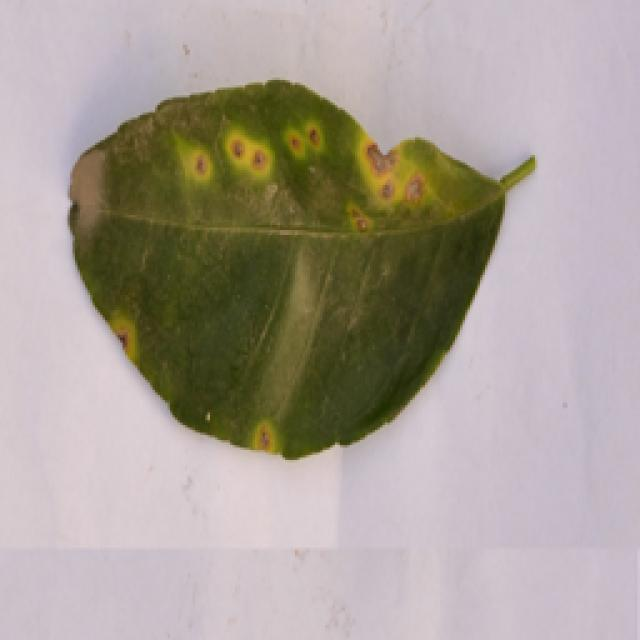canker: (46, 78, 542, 474)
